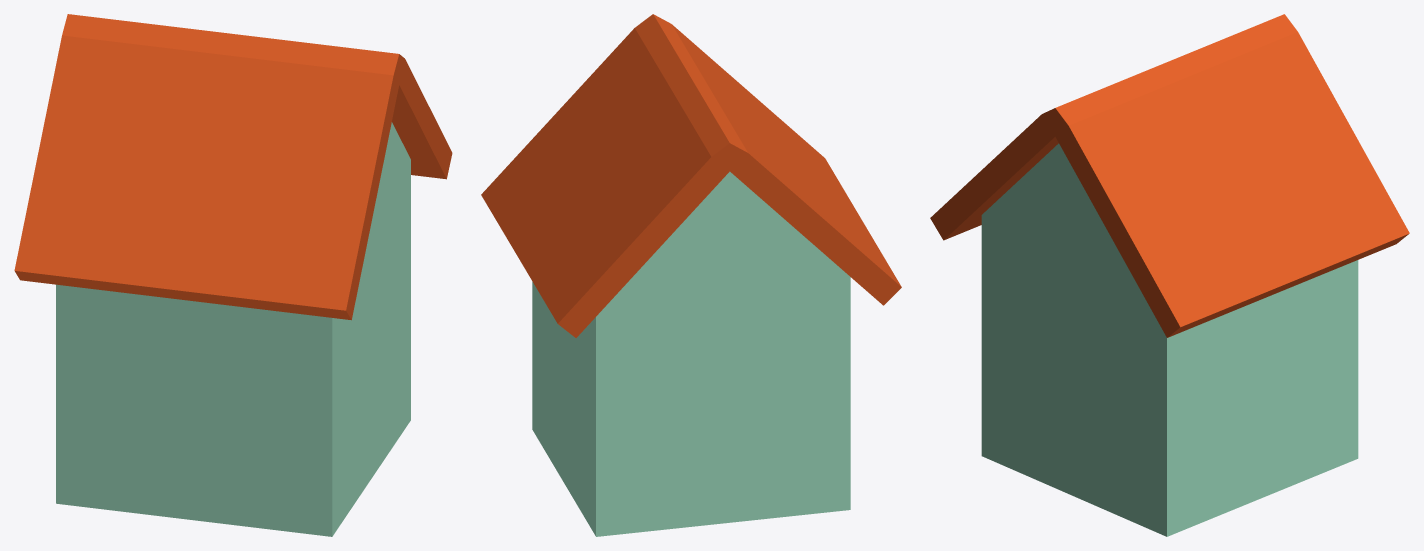
The model's file is house_roof.glb.
The picture shows the model from 3 angles, left to right: view 1: azimuth 30°, elevation 25°; view 2: azimuth 150°, elevation 25°; view 3: azimuth 270°, elevation 25°; orthographic projection. The views are drawn at different scales.
Visible parts, largest first — view 1: Cube.008; view 2: Cube.008; view 3: Cube.008.
Part boxes in pixels (x1,y1,x2,y2): Cube.008: [14, 14, 452, 536]; Cube.008: [481, 14, 901, 536]; Cube.008: [930, 14, 1409, 536].
Size of the model in its own units: 3.61 by 3.29 by 3.6.
